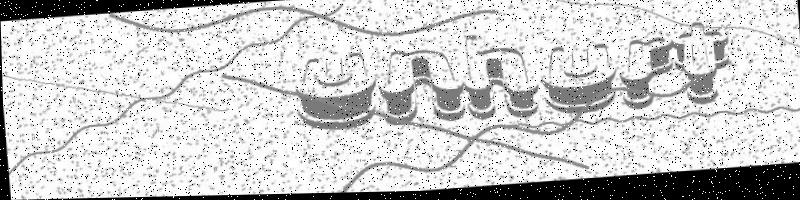h: (461, 34, 542, 124)
n: (376, 48, 466, 127)
r: (618, 39, 677, 112)
t: (672, 23, 728, 108)
u: (294, 54, 378, 132), (539, 45, 619, 118)
